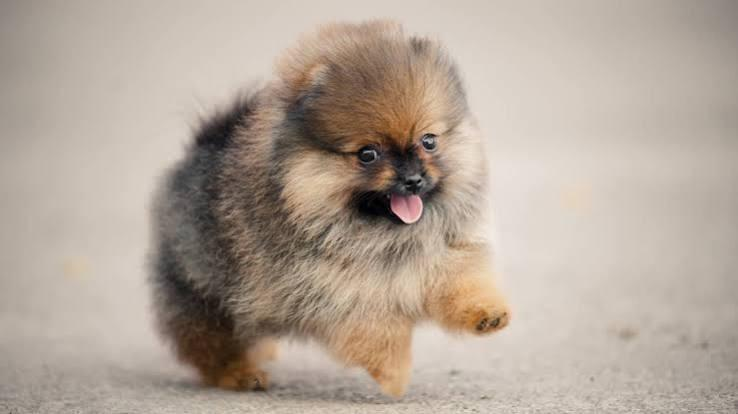puppy-dog: (137, 16, 523, 398)
